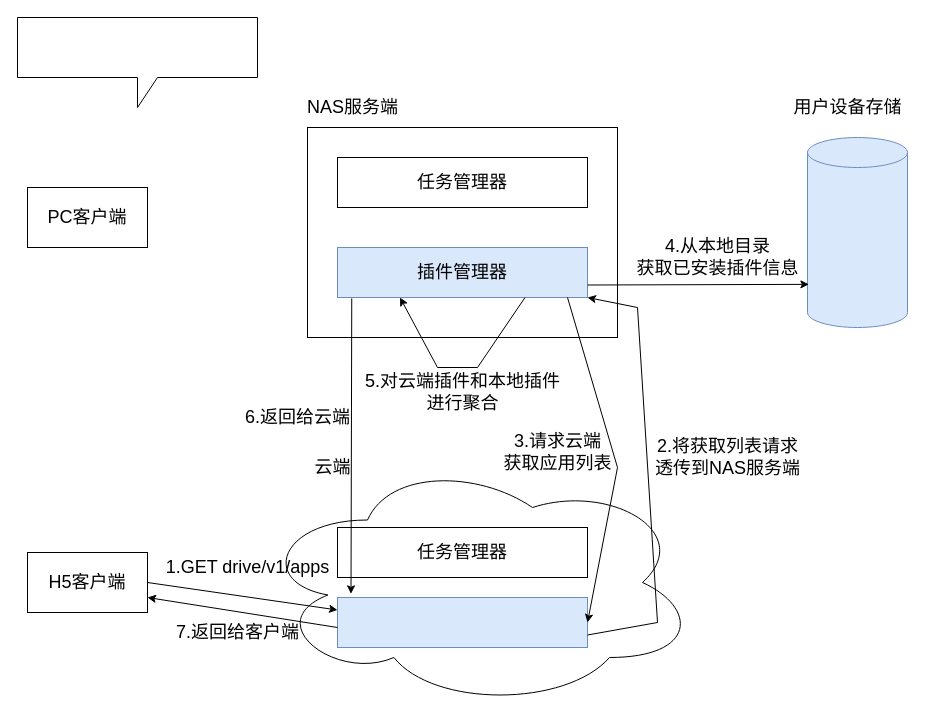
This 925x725 diagram has some shape labels left out. Here are the shapes that lost their labels. From the top down, the box of each, then its label:
(16, 16, 258, 108): 场景2:H5客户端 获取插件列表
(336, 596, 588, 648): 应用库
